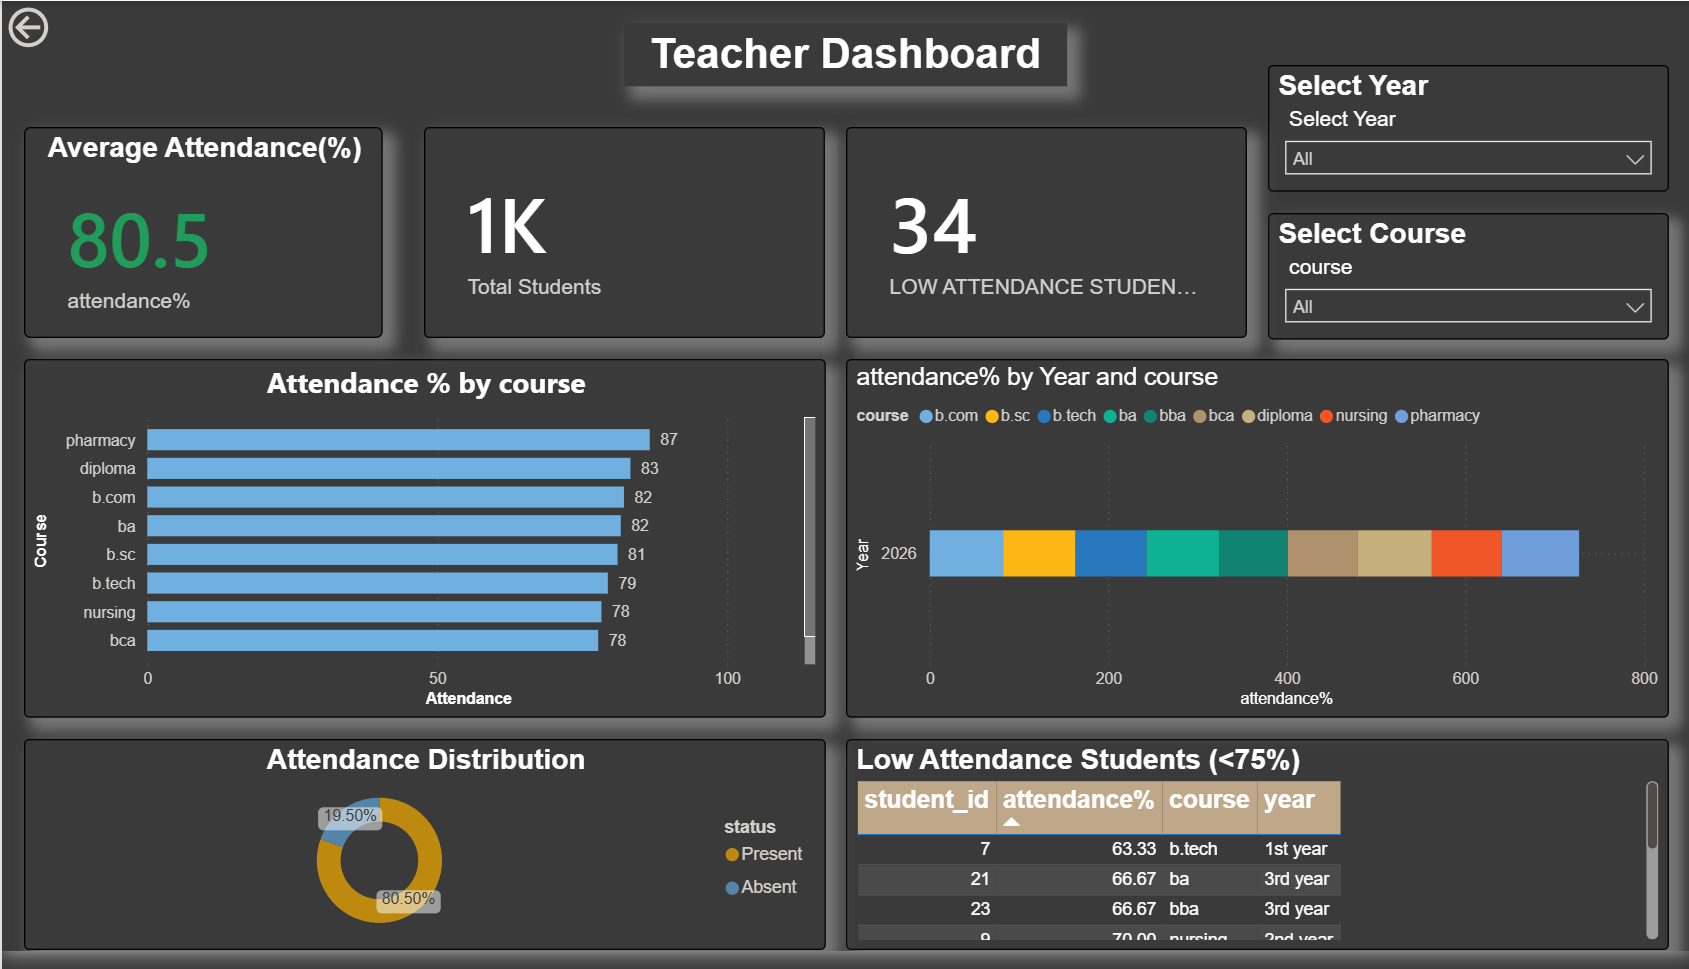

Layout of this report page (visuals, bound fields, positions):
{"tool":"powerbi","page":{"name":"Teacher Dashboard","canvas":[1280,720],"ordinal":0},"visuals":[{"type":"barChart","title":"Attendance % by course","fields":{"Category":["Students.course"],"Y":["Attendance.attendance%"]},"box":[16,272,608,272],"z":0},{"type":"tableEx","title":"Low Attendance Students (<75%)","fields":{"Values":["Attendance.student_id","Attendance.attendance%","Students.course","Students.year"]},"box":[640,560,624,160],"z":1000},{"type":"actionButton","box":[0,0,100,40],"z":2000},{"type":"slicer","title":"Select Course","fields":{"Values":["Students.course"]},"box":[960,160,304,96],"z":3000},{"type":"slicer","title":"Select Year","fields":{"Values":["Students.year"]},"box":[960,48,304,96],"z":4000},{"type":"donutChart","title":"Attendance Distribution","fields":{"Category":["Attendance.status"],"Y":["CountNonNull(Attendance.student_id)"]},"box":[16,560,608,160],"z":5000},{"type":"cardVisual","title":"Average Attendance(%)","fields":{"Data":["Attendance.attendance%"]},"box":[16,96,272,160],"z":6000},{"type":"textbox","box":[472,16,336,48],"z":7000},{"type":"cardVisual","fields":{"Data":["Attendance.Total Students"]},"box":[320,96,304,160],"z":8000},{"type":"cardVisual","fields":{"Data":["Attendance.LOW ATTENDANCE STUDENT"]},"box":[640,96,304,160],"z":9000},{"type":"barChart","fields":{"Category":["Attendance.date.Variation.Date Hierarchy.Year"],"Y":["Attendance.attendance%"],"Series":["Students.course"]},"box":[640,272,624,272],"z":10000}]}

Visuals, with their boxes in screenshot pixels (x1, y1, x2, y2), scaled from the page's 1280x720 canvas onto the 1689x969 screenshot:
"Attendance % by course" barChart: 21,366,823,732
"Low Attendance Students (<75%)" tableEx: 844,754,1668,968
actionButton: 0,0,132,54
"Select Course" slicer: 1267,215,1668,345
"Select Year" slicer: 1267,65,1668,194
"Attendance Distribution" donutChart: 21,754,823,968
"Average Attendance(%)" cardVisual: 21,129,380,345
textbox: 623,22,1066,86
cardVisual - Attendance.Total Students: 422,129,823,345
cardVisual - Attendance.LOW ATTENDANCE STUDENT: 844,129,1246,345
barChart - Attendance.date.Variation.Date Hierarchy.Year x Attendance.attendance%: 844,366,1668,732
